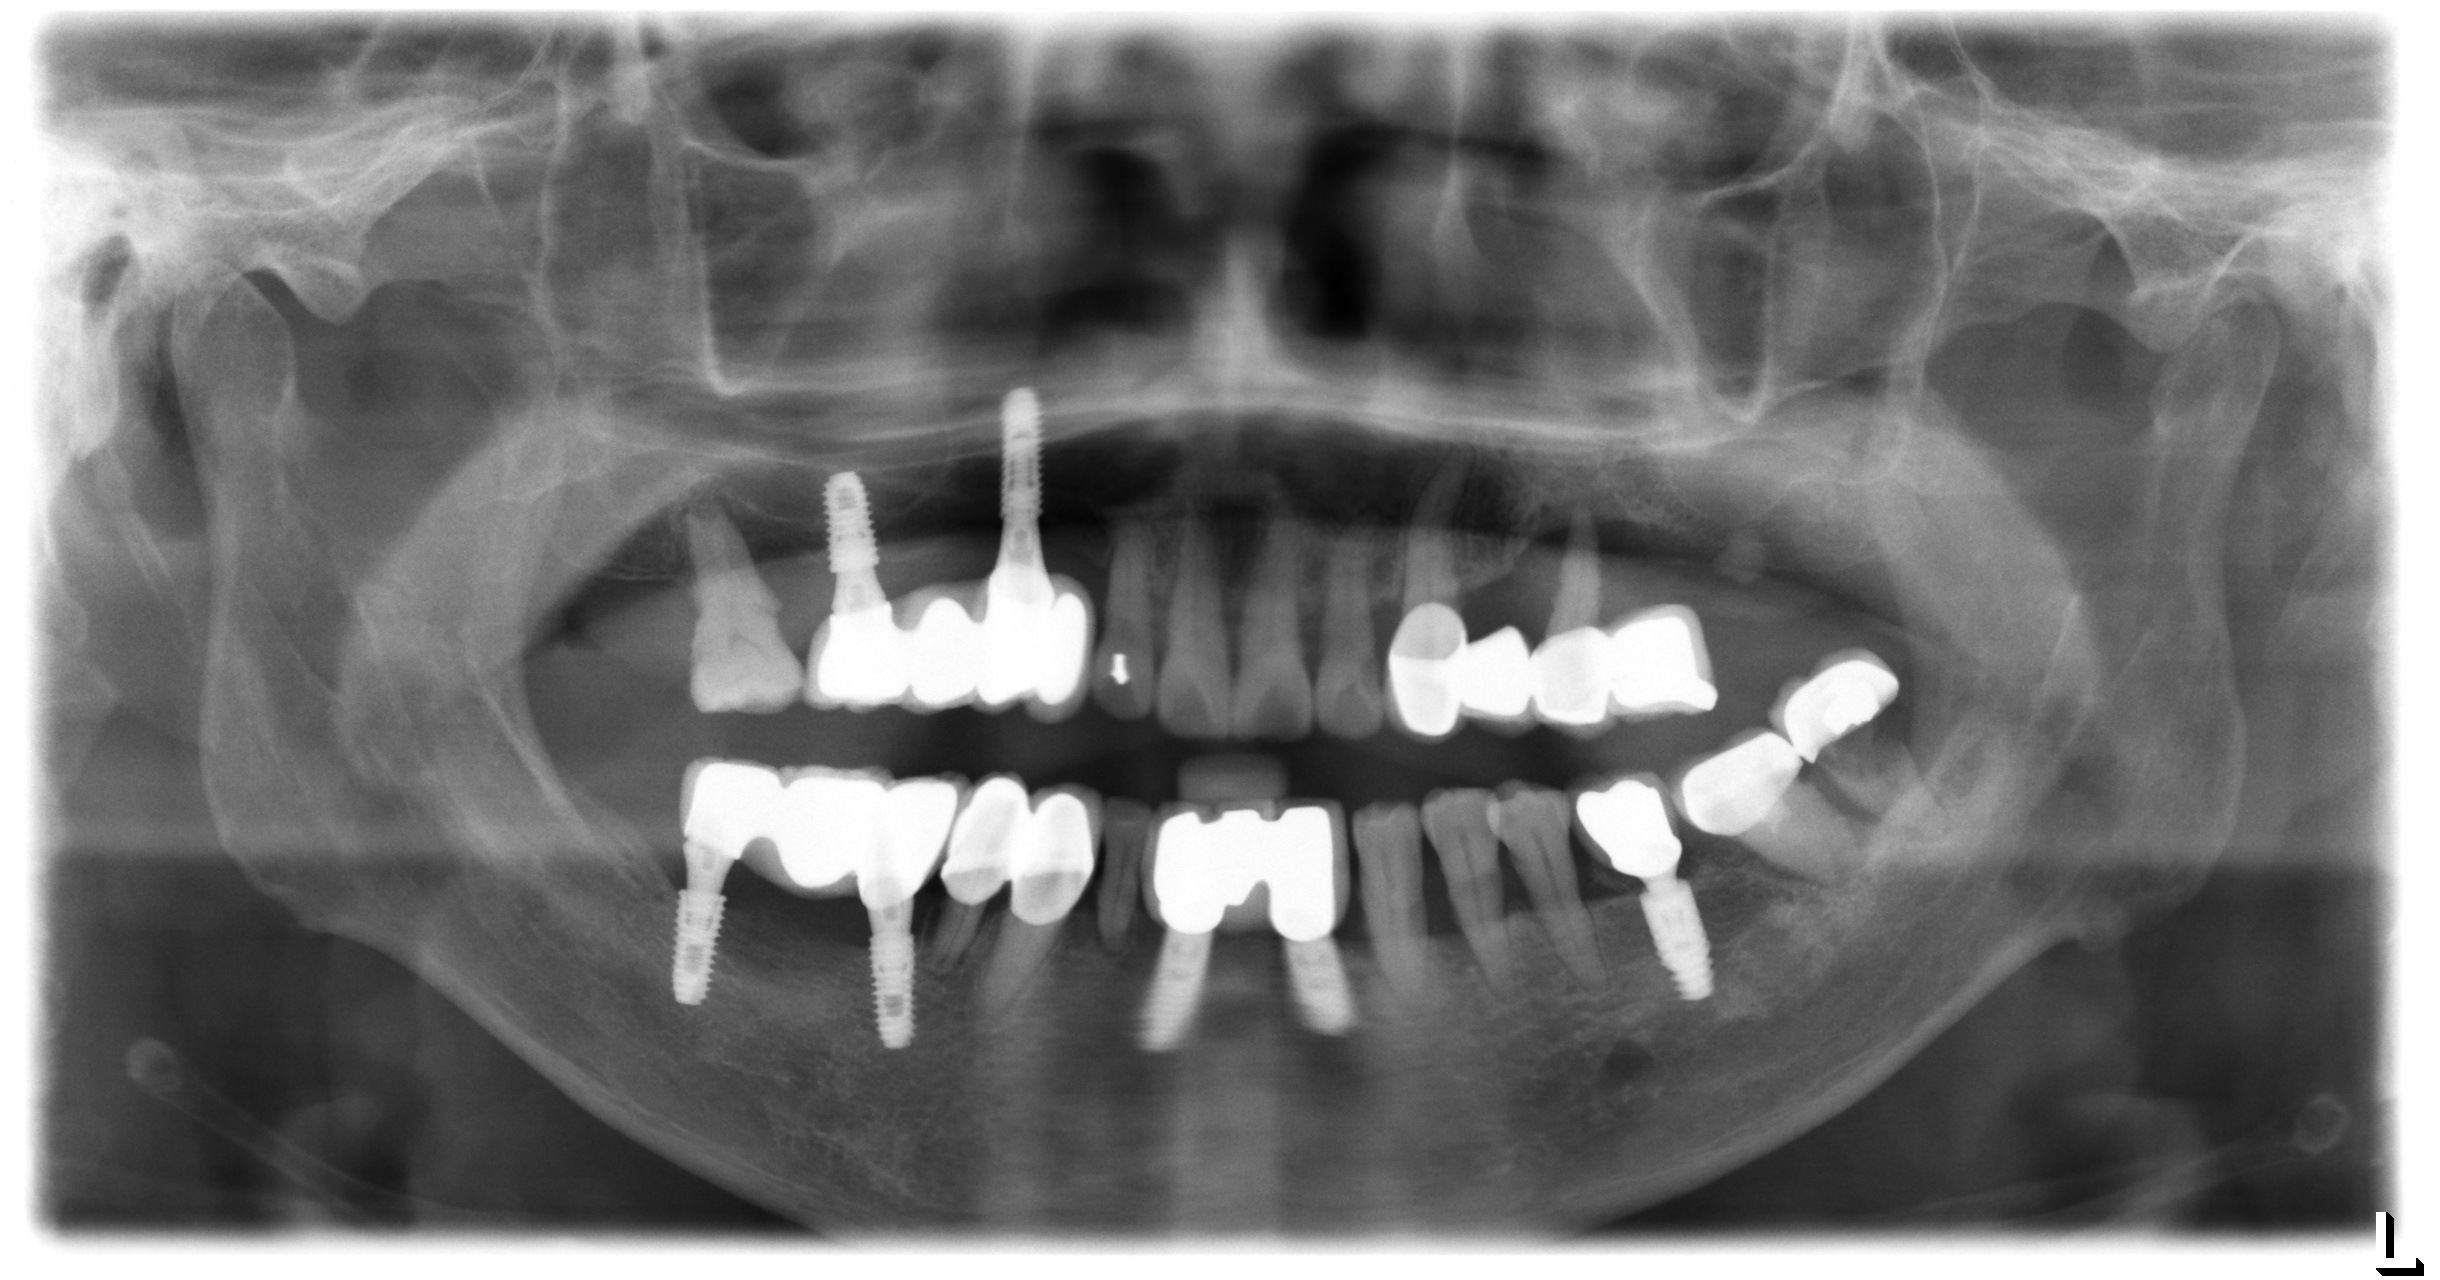Decay: (1820, 718, 1912, 793), (1715, 521, 1769, 588)
